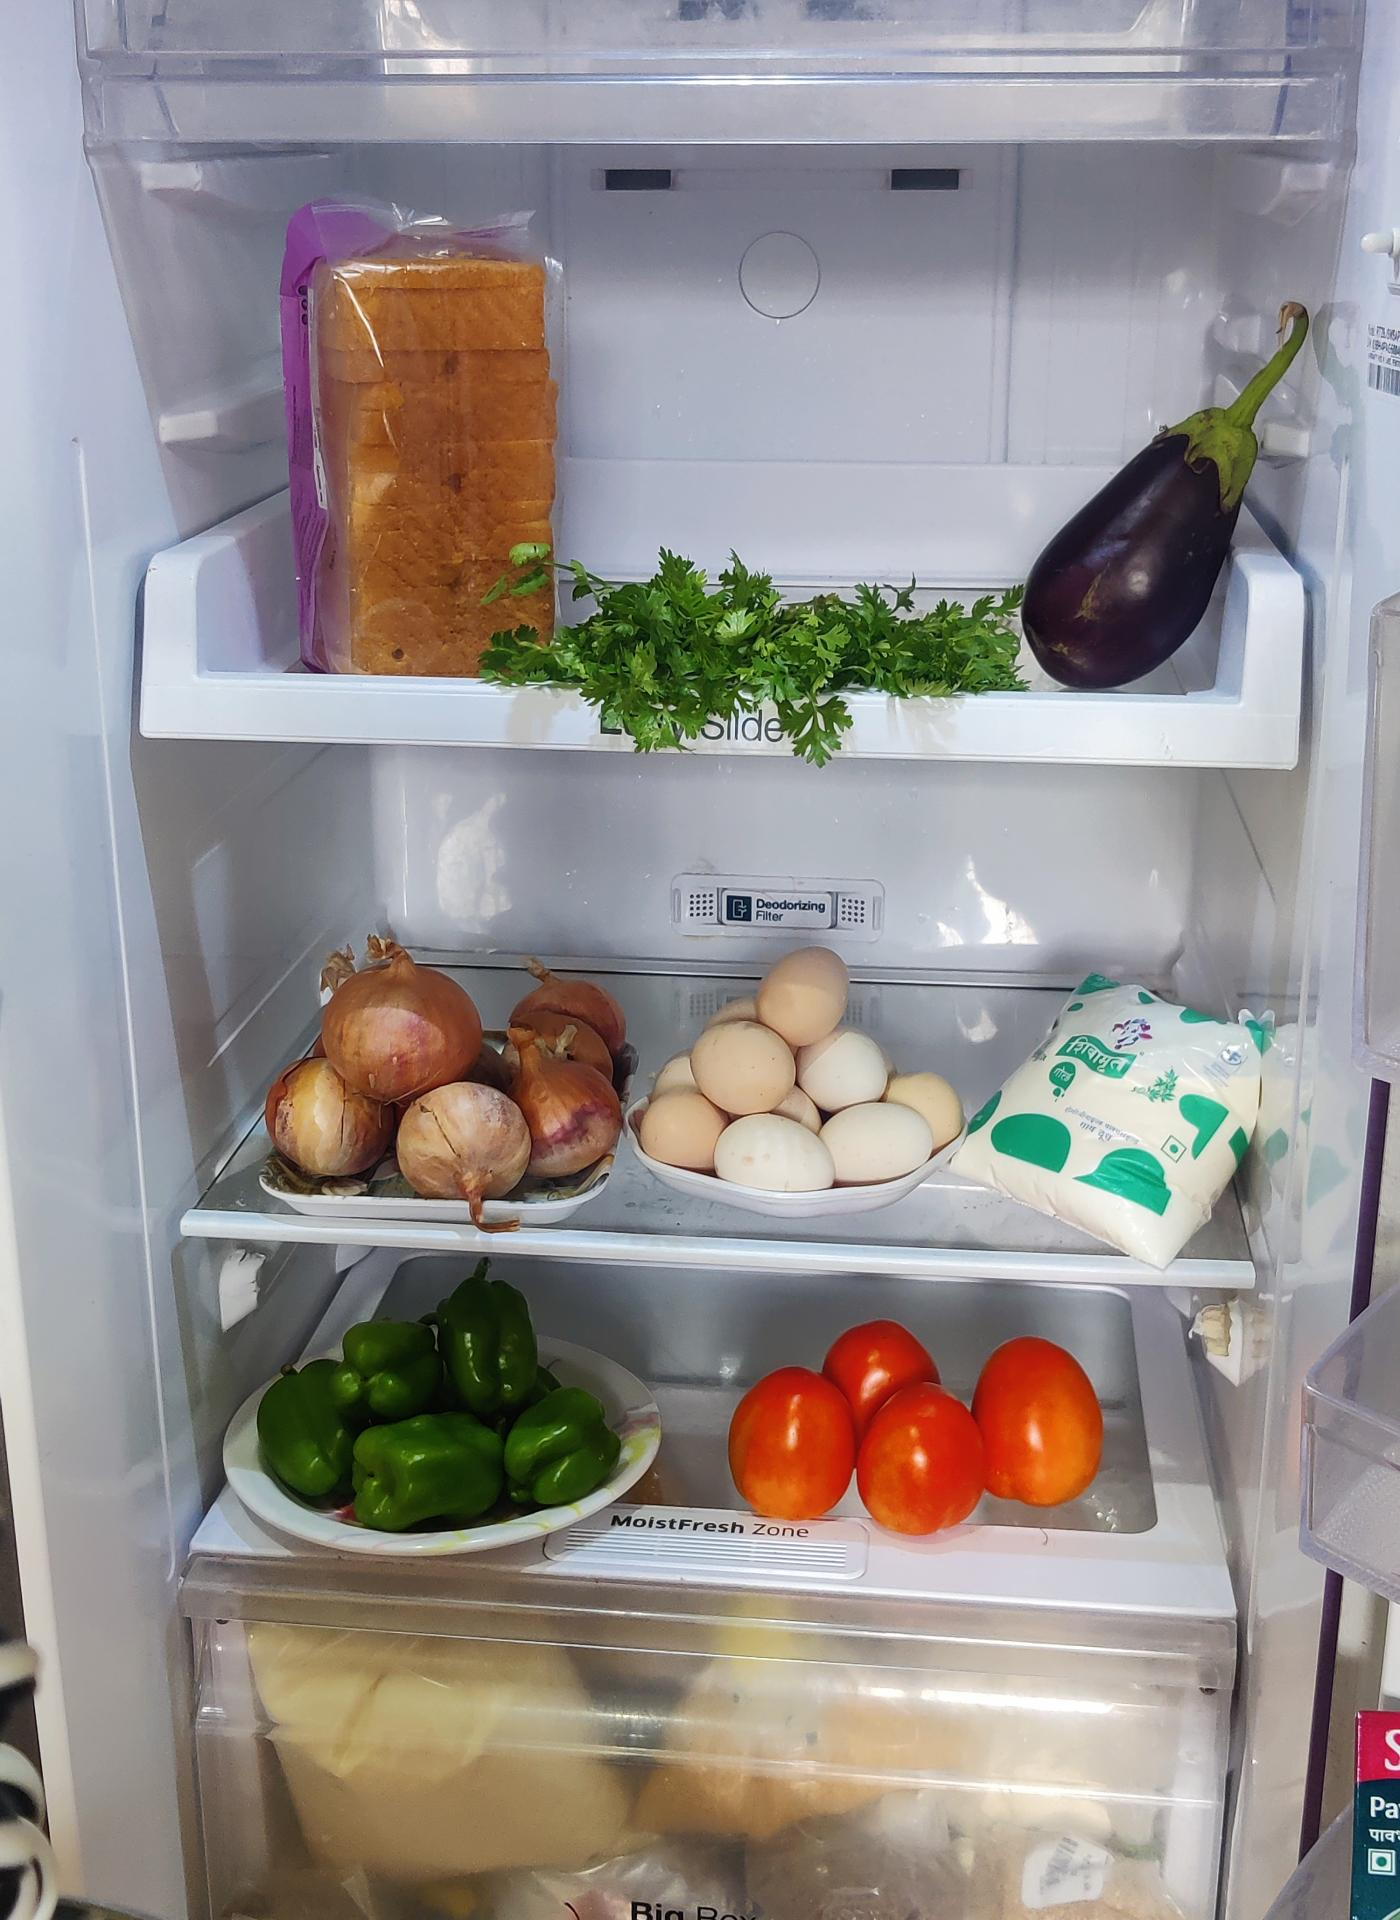bread: (282, 206, 567, 666)
brinjal: (1029, 395, 1245, 684)
capsicum: (256, 1283, 637, 1538)
coriander: (573, 552, 1018, 730)
egg: (637, 961, 953, 1207)
milk: (968, 972, 1272, 1258)
onion: (267, 941, 622, 1185)
tomato: (731, 1321, 1112, 1537)
